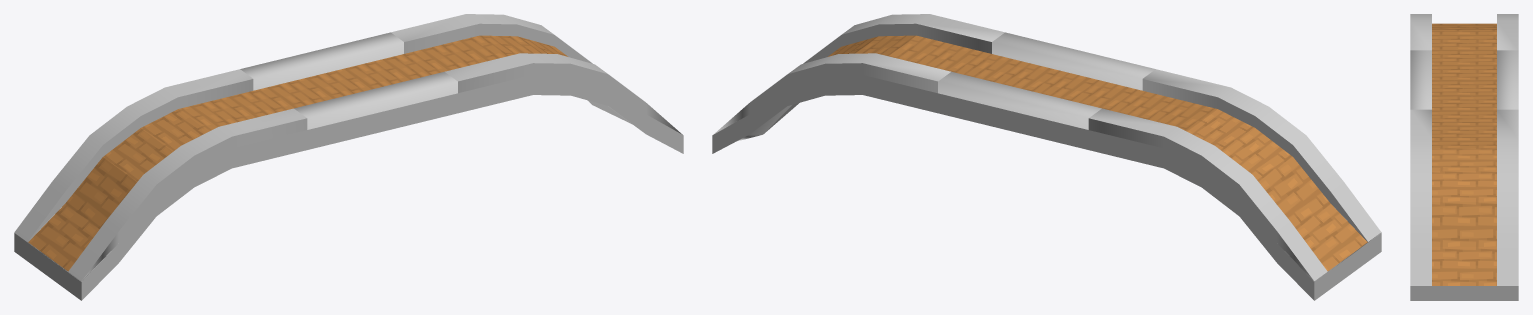
Rendered from pUENTE CURVA 0.fbx.
3 views of the same model, side by side, from view 1: azimuth 30°, elevation 25°; view 2: azimuth 150°, elevation 25°; view 3: azimuth 270°, elevation 25° (orthographic). The views are drawn at different scales.
Parts seen in each view (by area): view 1: Cube.001, Cube.002, Cube; view 2: Cube.001, Cube.002, Cube; view 3: Cube.002, Cube, Cube.001.
Part boxes in pixels (box(x1,y1,x2,y2)): Cube.001: box(14, 69, 307, 300); Cube.002: box(391, 14, 683, 153); Cube: box(240, 32, 457, 149); Cube.001: box(1088, 69, 1381, 300); Cube.002: box(712, 14, 1004, 153); Cube: box(938, 32, 1155, 149); Cube.002: box(1410, 109, 1518, 300); Cube: box(1410, 50, 1518, 118); Cube.001: box(1410, 14, 1518, 59).
Bounding box in the file's own units: 1598 × 324 × 309.
